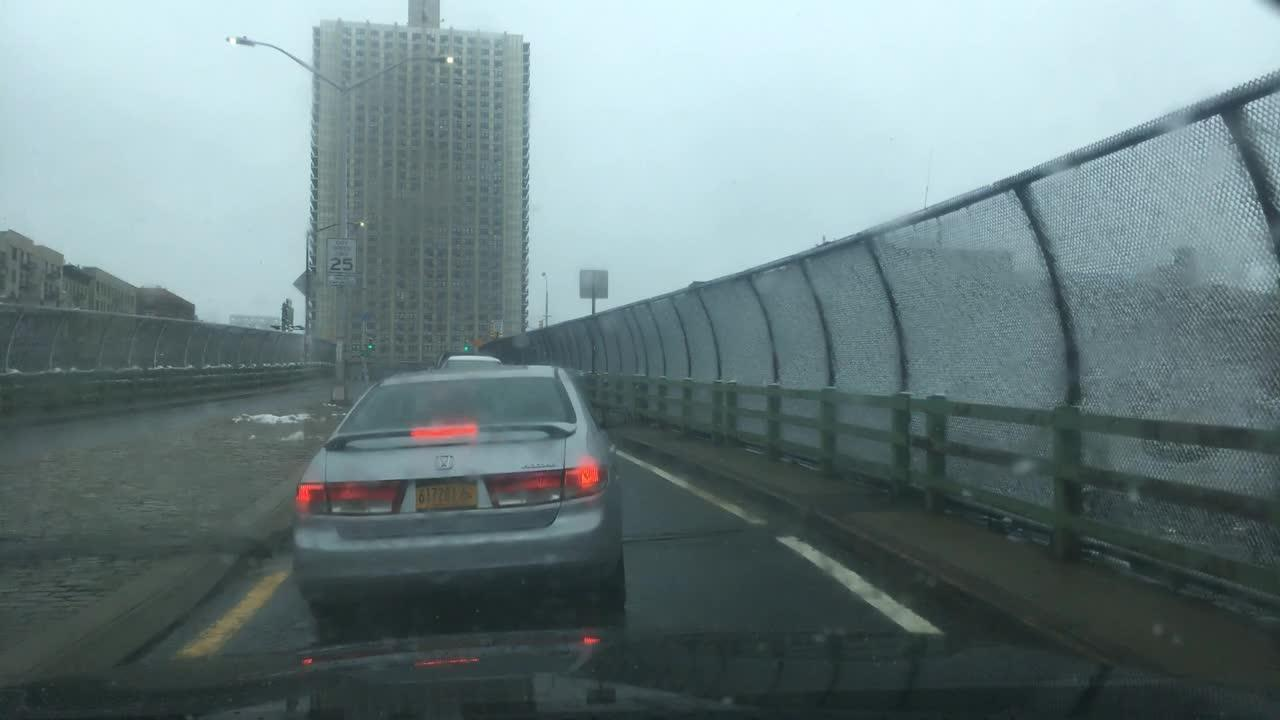Honda: (425, 449, 463, 475)
